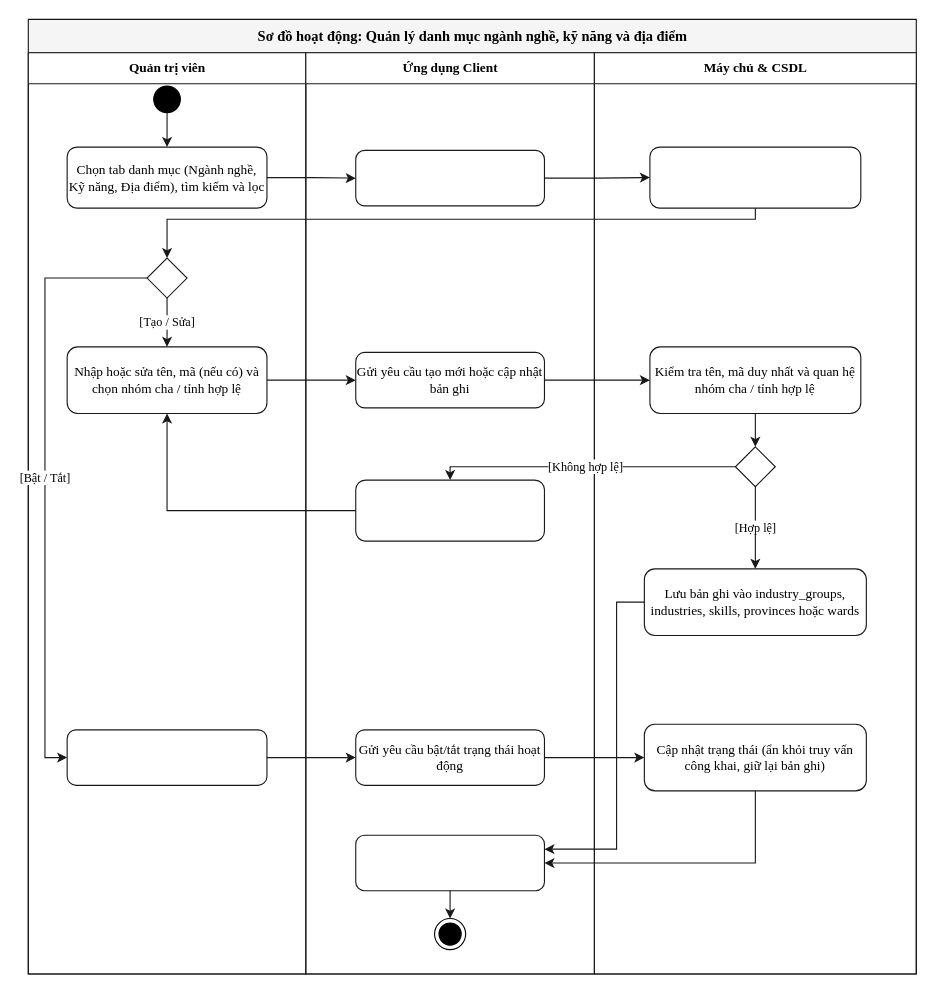
Image size: 936x993. Some labels were removed from this diagram. The shapes that lost their labels are listed below. From the top down, each one's centre as x and y in pixels, then its label:
At (449,177): "Gửi yêu cầu truy vấn và hiển thị danh sách danh mục".
At (755,177): "Kiểm tra quyền Admin và truy vấn bảng danh mục tương ứng".
At (449,510): "Hiển thị lỗi dữ liệu, trùng tên/mã hoặc sai quan hệ cha".
At (166,757): "Bật hoặc tắt công tắc hoạt động của bản ghi".
At (449,862): "Cập nhật danh sách danh mục trên giao diện".
